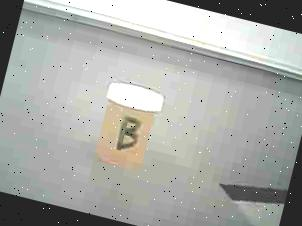Bottle B: (78, 71, 175, 182)
